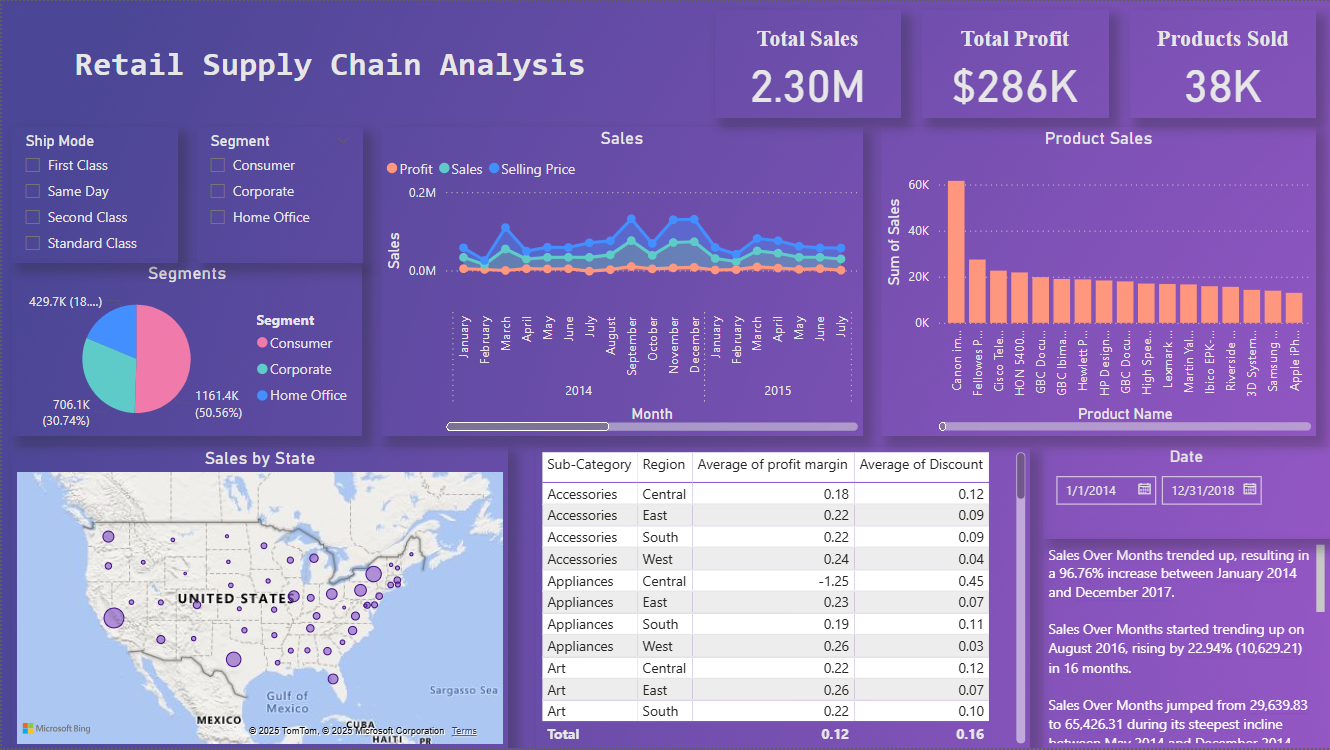

The page's visual inventory and layout, read from the dashboard file:
{"tool":"powerbi","page":{"name":"Page 1","canvas":[1280,720],"ordinal":0},"visuals":[{"type":"cardVisual","fields":{"Data":["Sum(order details.Sales)"]},"box":[687,8.7,179.7,104.3],"z":0},{"type":"cardVisual","fields":{"Data":["Sum(order details.Profit)"]},"box":[887.1,8.7,179.7,104.3],"z":1000},{"type":"stackedAreaChart","title":"Sales  ","fields":{"Y":["Sum(order details.Profit)","Sum(order details.Sales)","Sum(order details.Selling Price)"],"Category":["Calendar.Date.Variation.Date Hierarchy.Year","Calendar.Date.Variation.Date Hierarchy.Month"]},"box":[365,121.2,465,297.5],"z":2000},{"type":"cardVisual","fields":{"Data":["Sum(order details.Quantity)"]},"box":[1087.2,8.7,180.3,104.4],"z":3000},{"type":"columnChart","title":"Product Sales","fields":{"Category":["order details.Product Name"],"Y":["Sum(order details.Sales)"]},"box":[847.5,121.2,420,297.5],"z":4000},{"type":"pieChart","title":"Segments","fields":{"Category":["order details.Segment"],"Y":["Sum(order details.Sales)"]},"box":[10,251.2,337.5,167.5],"z":5000},{"type":"slicer","fields":{"Values":["order details.Segment"]},"box":[187.5,121.2,160,130],"z":6000},{"type":"map","title":"Sales by State","fields":{"Size":["CountNonNull(order details.Sales)"],"Category":["order details.State"]},"box":[9.6,430.1,478.3,290.4],"z":7000},{"type":"tableEx","fields":{"Values":["order details.Sub-Category","order details.Region","Avg(order details.profit margin)","Avg(order details.Discount)"]},"box":[514.5,430.1,477.1,290.4],"z":8000},{"type":"slicer","fields":{"Values":["order details.Ship Mode"]},"box":[10,121.2,160,130],"z":9000},{"type":"textbox","box":[1003.6,519.3,275.9,201.2],"z":10000},{"type":"slicer","title":"Date","fields":{"Values":["Calendar.Date"]},"box":[1003.6,430.1,275.9,89.2],"z":11000},{"type":"textbox","box":[65.1,37.3,574.7,49.4],"z":12000}]}

Visuals, with their boxes in screenshot pixels (x1, y1, x2, y2), scaled from the page's 1280x720 canvas onto the 1330x750 screenshot:
cardVisual - Sum(order details.Sales): bbox=[714, 9, 901, 118]
cardVisual - Sum(order details.Profit): bbox=[922, 9, 1108, 118]
"Sales  " stackedAreaChart: bbox=[379, 126, 862, 436]
cardVisual - Sum(order details.Quantity): bbox=[1130, 9, 1317, 118]
"Product Sales" columnChart: bbox=[881, 126, 1317, 436]
"Segments" pieChart: bbox=[10, 262, 361, 436]
slicer - order details.Segment: bbox=[195, 126, 361, 262]
"Sales by State" map: bbox=[10, 448, 507, 749]
tableEx - order details.Sub-Category x order details.Region: bbox=[535, 448, 1030, 749]
slicer - order details.Ship Mode: bbox=[10, 126, 177, 262]
textbox: bbox=[1043, 541, 1329, 749]
"Date" slicer: bbox=[1043, 448, 1329, 541]
textbox: bbox=[68, 39, 665, 90]
